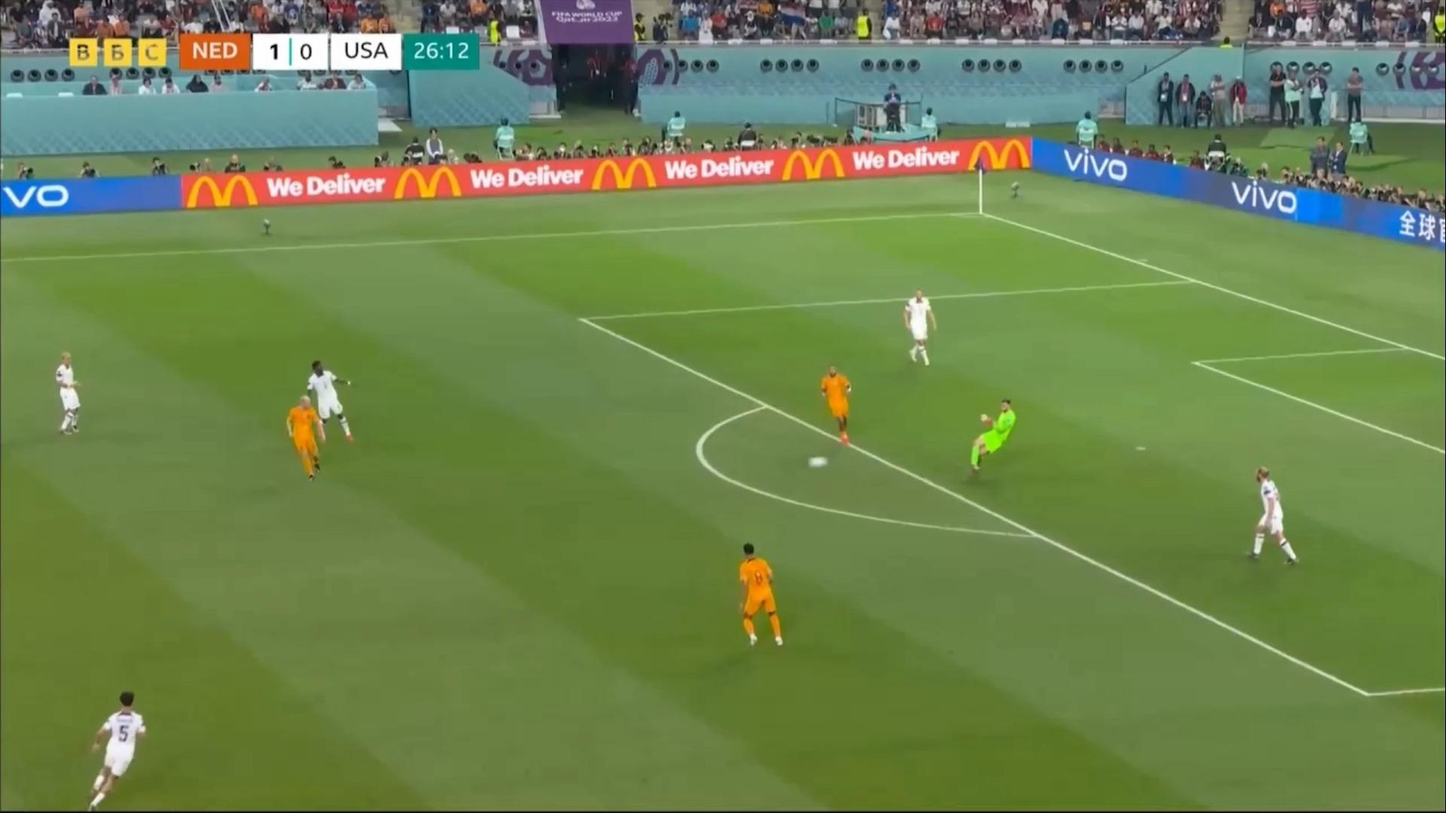Ball: (806, 455, 824, 473)
Player: (73, 688, 153, 809), (728, 545, 787, 652), (1248, 466, 1303, 569), (967, 398, 1017, 478), (813, 362, 857, 447), (49, 349, 88, 444), (307, 359, 349, 444), (286, 396, 325, 486), (898, 286, 936, 374)
